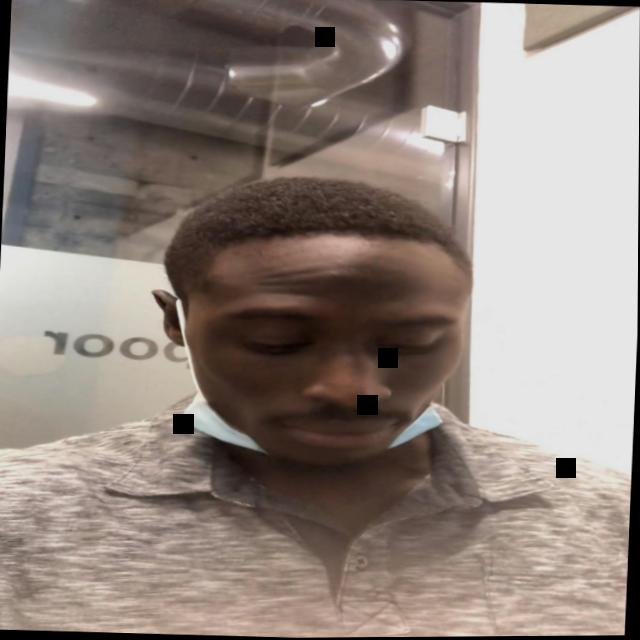NO-Mask: (161, 238, 471, 471)
